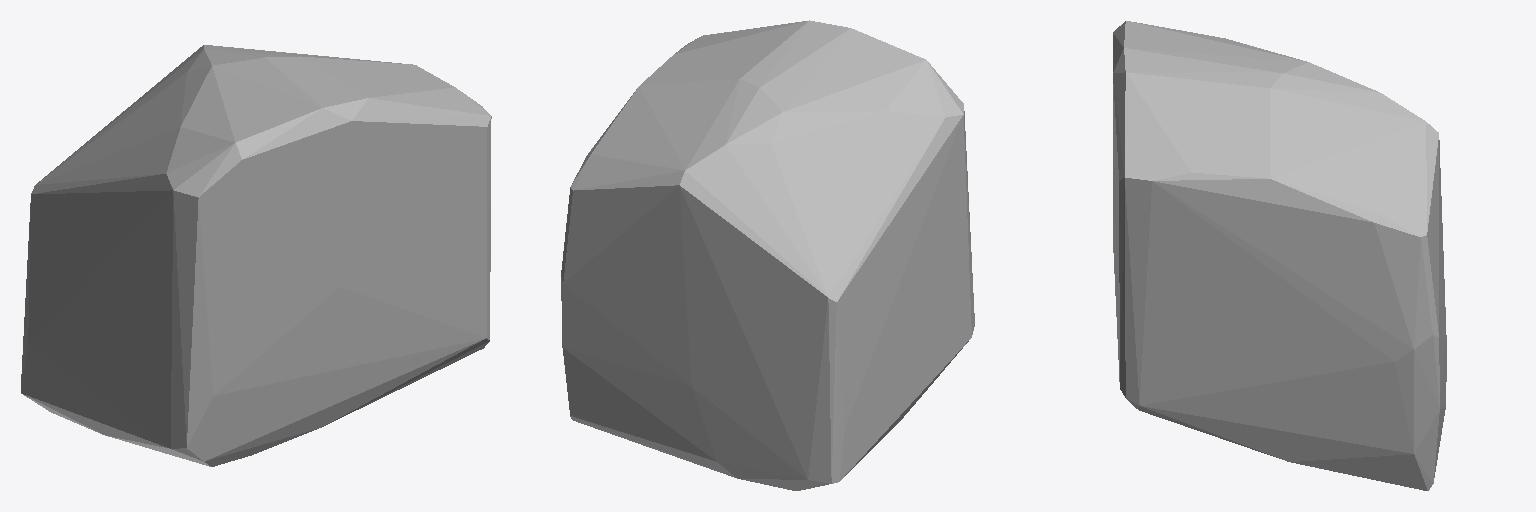
URDF robot description (root):
<robot name="root">
  <link name="link_rock21_convex_piece_0">
    <inertial>
      <origin rpy="0 0 0" xyz="0 0 0"/>
      <mass value="2.19E+06"/>
      <inertia ixx="6.90E+09" ixy="-1.87E+08" ixz="1.00E+09" iyy="7.62E+09" iyz="-8.96E+08" izz="6.15E+09"/>
    </inertial>
    <visual>
      <origin rpy="0 0 0" xyz="0 0 0"/>
      <geometry>
        <mesh filename="rock21_convex_piece_0.obj" scale="1.0000E+00 1.0000E+00 1.0000E+00"/>
      </geometry>
      <material name="">
        <color rgba="7.50E-01 7.50E-01 7.50E-01 1"/>
      </material>
    </visual>
    <collision>
      <origin rpy="0 0 0" xyz="0 0 0"/>
      <geometry>
        <mesh filename="rock21_convex_piece_0.obj" scale="1.0000E+00 1.0000E+00 1.0000E+00"/>
      </geometry>
    </collision>
  </link>
</robot>

--- What the picture shows (computed from the rendered views, not written in the file) ---
The picture shows the robot from 3 angles, left to right: view 1: azimuth 30°, elevation 25°; view 2: azimuth 150°, elevation 25°; view 3: azimuth 270°, elevation 25°; orthographic projection.
Robot: root — 1 links, 0 joints (none); root link link_rock21_convex_piece_0; default pose: every joint at zero.
Visible links, largest first — view 1: link_rock21_convex_piece_0; view 2: link_rock21_convex_piece_0; view 3: link_rock21_convex_piece_0.
Boxes of the visible links, x1,y1,x2,y2 form: link_rock21_convex_piece_0: [21, 45, 491, 466]; link_rock21_convex_piece_0: [561, 20, 974, 490]; link_rock21_convex_piece_0: [1113, 21, 1446, 490].
Bounding box of the posed robot: 143 × 130 × 164 m (x, y, z).
Meshes: 1 distinct files referenced, 1 mesh visuals loaded (1 OBJ).
